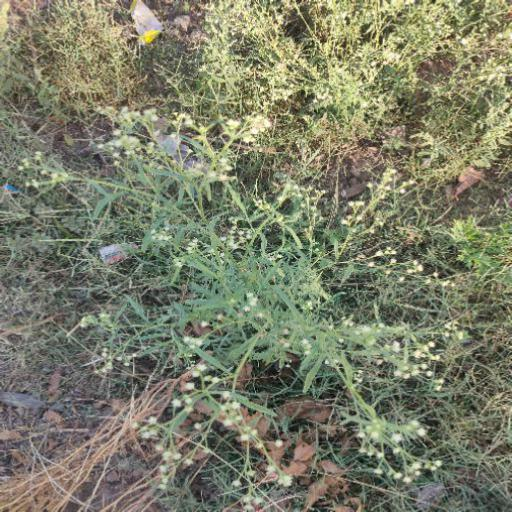weed: (78, 167, 484, 480), (64, 7, 509, 147)
